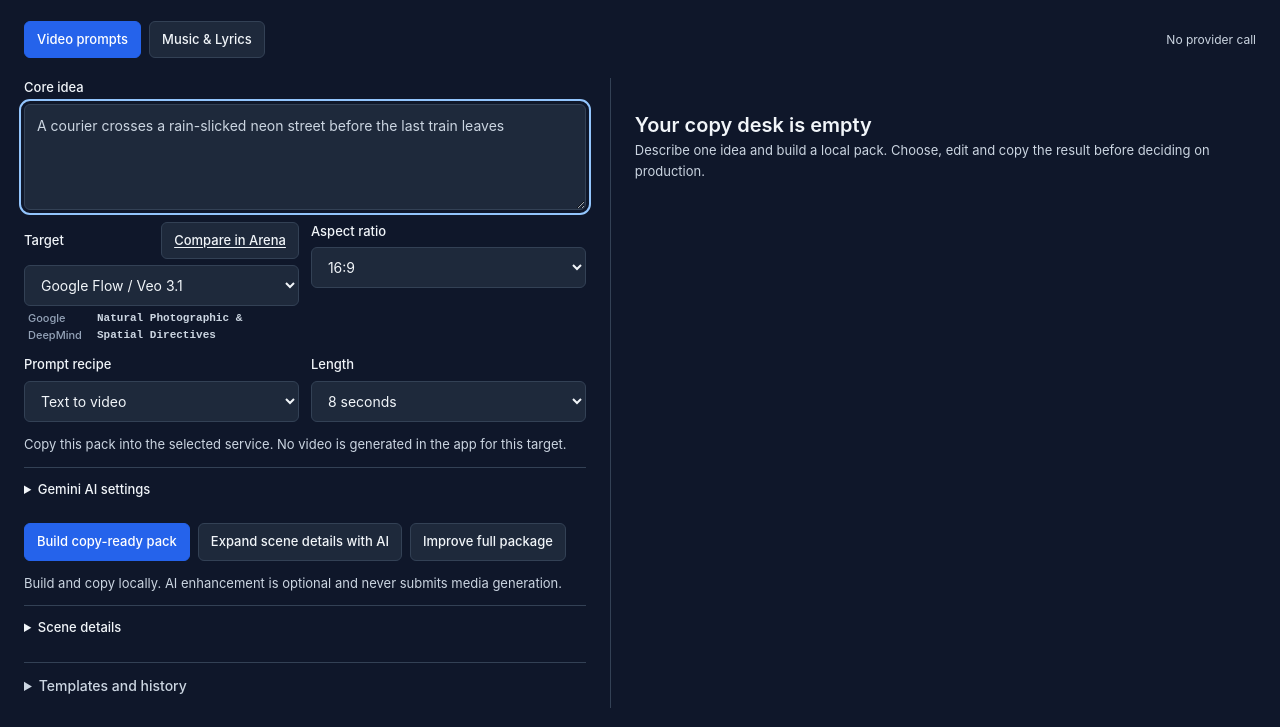
Test: PromptStudioPage durable copy desk › surfaces clipboard failure and does not open Suno
(page scrolled)
Check: the text box labelled "Core idea" is shown, box [24,104,586,210]
Click the button "Music & Lyrics": (207, 40) [149,21,265,58]
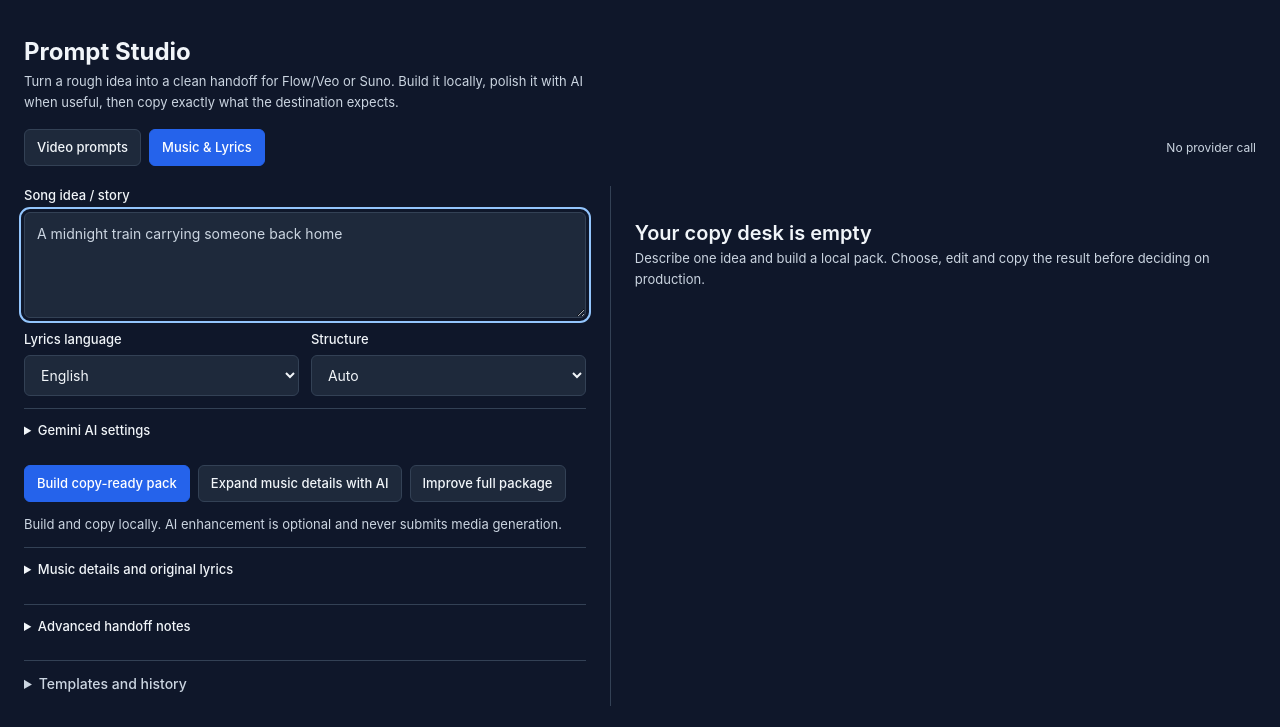
In the text box labelled "Song idea / story": (305, 265) [24,212,586,318], type "Returning home"
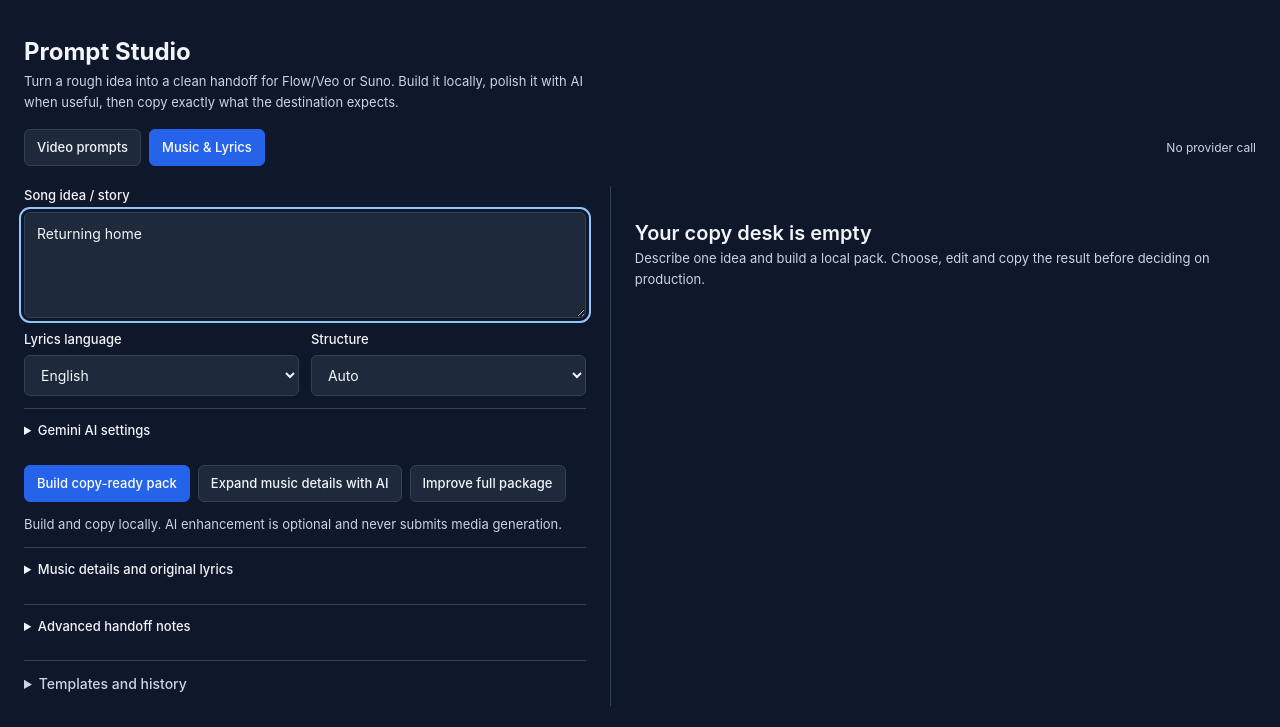
Click the button "Build copy-ready pack": (107, 484) [24,465,190,502]
(page scrolled)
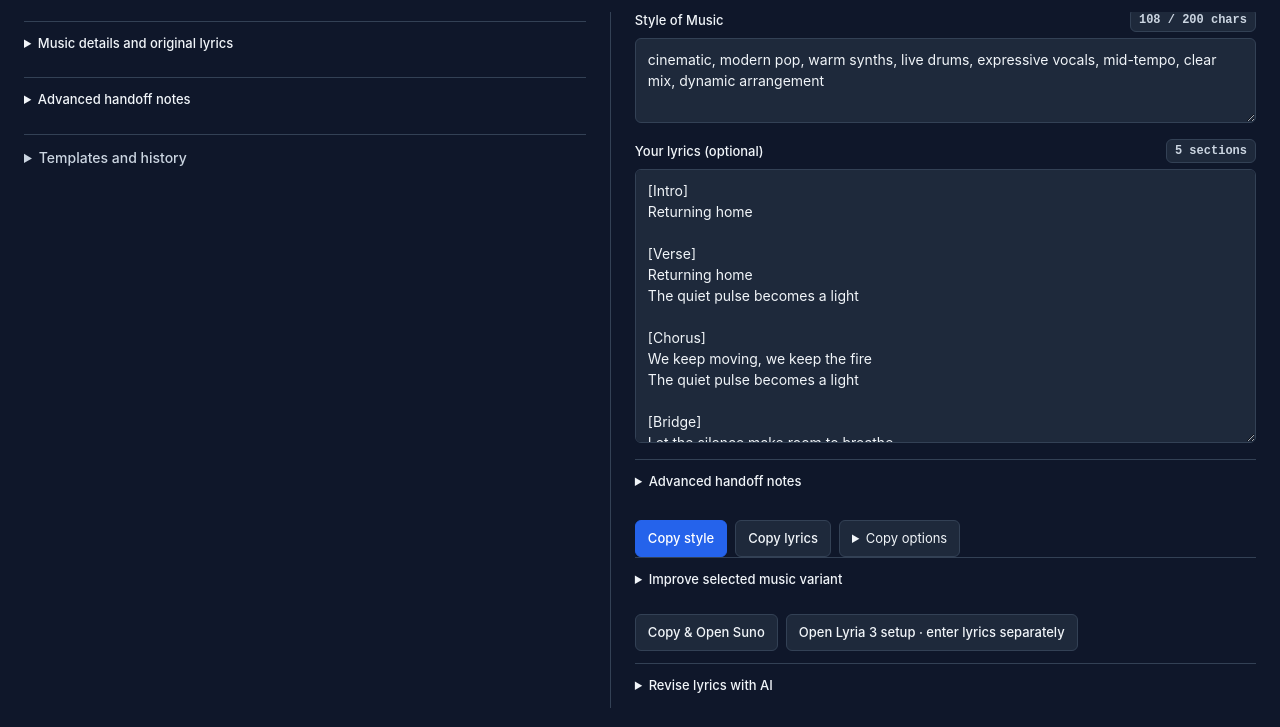
Check: the text box named "Primary lyrics" is shown, box [635,169,1256,443]
Click the button "Copy & Open Suno": (706, 633) [635,614,778,651]
(page scrolled)
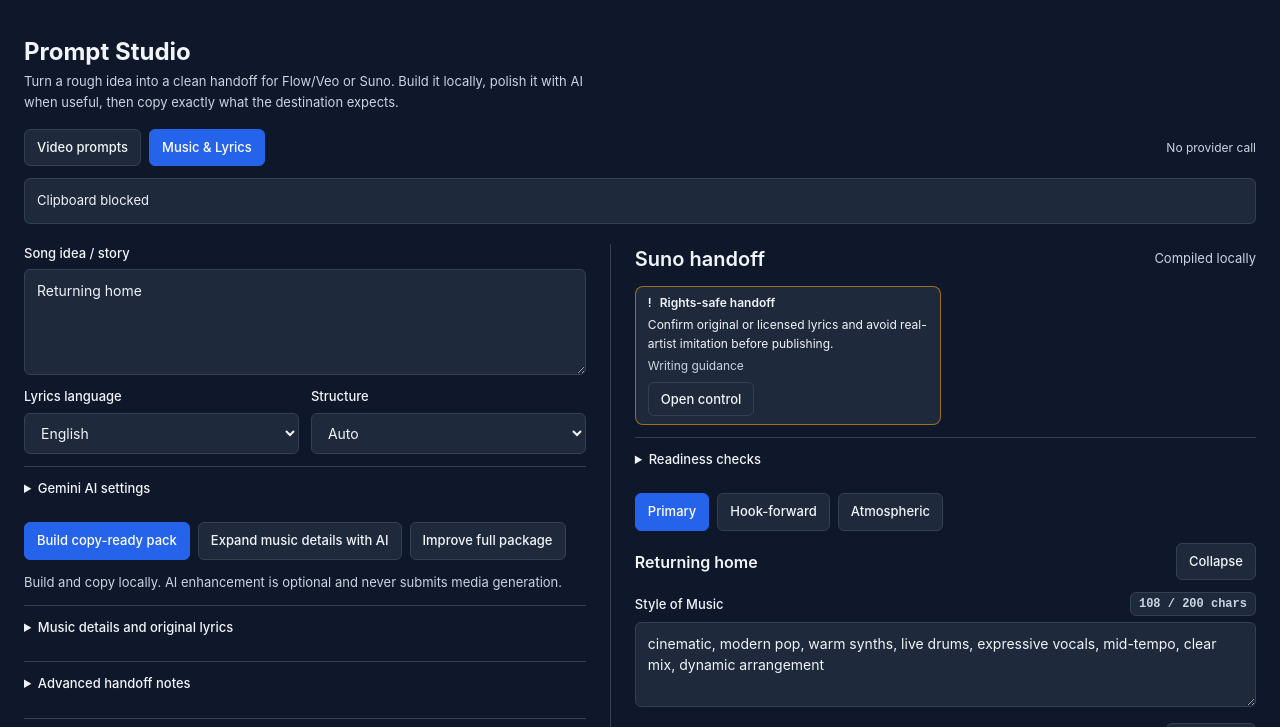
Check: the message reads "Clipboard blocked", box [37,192,149,208]
